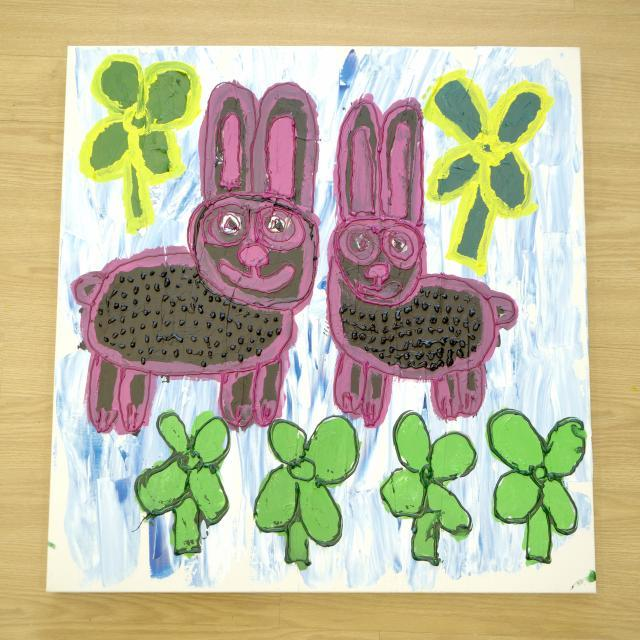painting: (48, 47, 594, 591)
